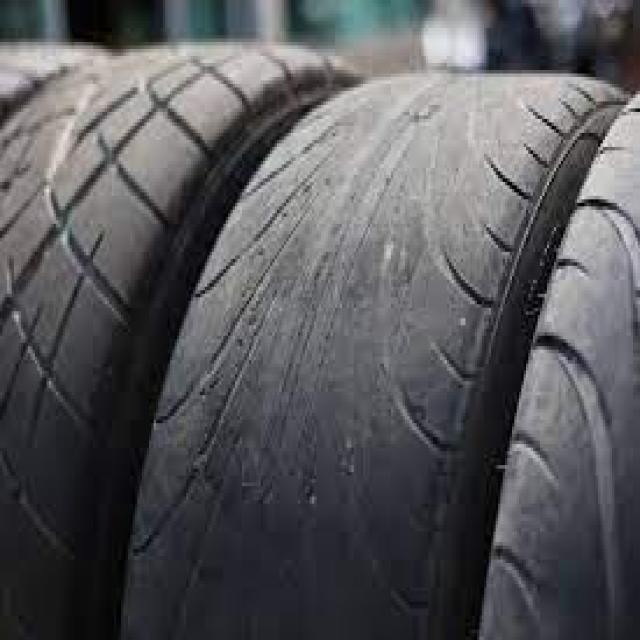Flat spots: (278, 137, 449, 639)
Non-defective: (0, 117, 165, 443)
